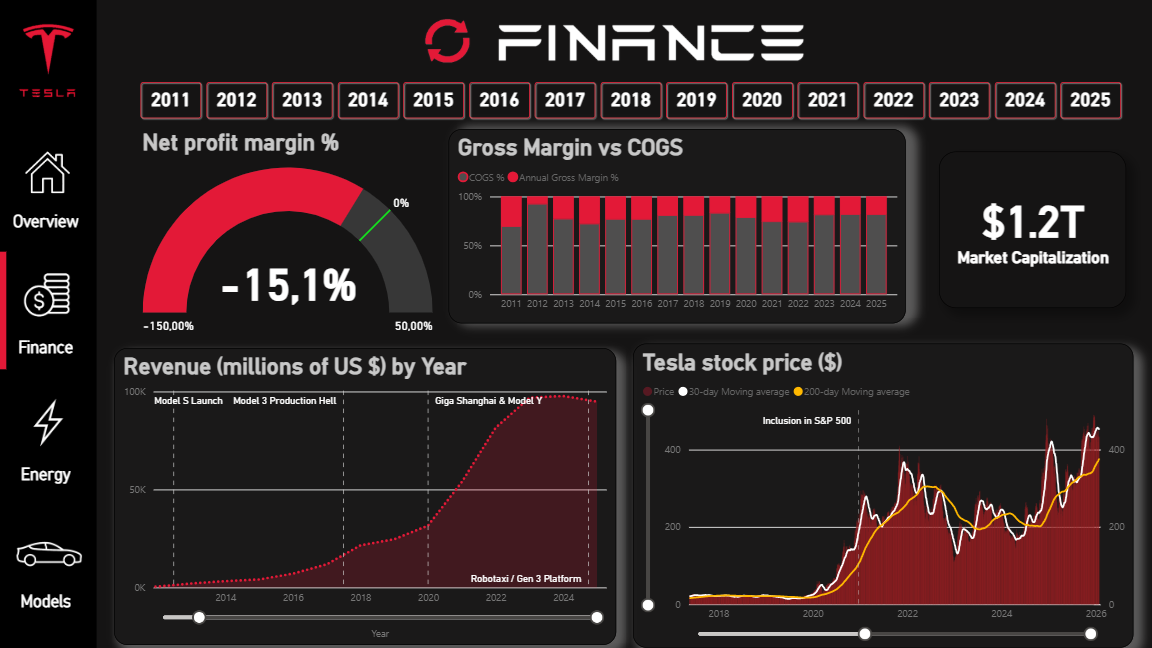

The page's visual inventory and layout, read from the dashboard file:
{"tool":"powerbi","page":{"name":"Finance","canvas":[1280,720],"ordinal":1},"visuals":[{"type":"shape","box":[0,0,107.5,720],"z":0,"group":"g3"},{"type":"image","box":[458,14.9,78.2,60.3],"z":0,"group":"g2"},{"type":"image","box":[4,146,98,89],"z":0,"group":"g1"},{"type":"lineClusteredColumnComboChart","title":"Tesla stock price ($)","fields":{"Category":["stock tesla.Date"],"Y":["Avg(stock tesla.Close)"],"Y2":["select","select1"]},"box":[704,382,556,338],"z":0},{"type":"actionButton","box":[458,14,80,61.2],"z":1000,"group":"g2"},{"type":"hundredPercentStackedColumnChart","title":"Gross Margin vs COGS","fields":{"Category":["financials 1.rok.Variation.Date Hierarchy.Year"],"Y":["Sum(financials 1.COGS)","Sum(financials 1.Annual Gross Margin %)"]},"box":[498,144,508,216],"z":1000},{"type":"group","id":"g1","title":"Group 2","box":[0,146,107,533.3],"z":1000,"group":"g3"},{"type":"image","box":[1.7,271.3,101.7,111.7],"z":1000,"group":"g1"},{"type":"image","box":[0,0,106.7,136.7],"z":2000,"group":"g3"},{"type":"areaChart","fields":{"Category":["financials 1.rok.Variation.Date Hierarchy.Year"],"Y":["Sum(financials 1.revenue (millions of US $))"]},"box":[126,386,558,330],"z":2000},{"type":"image","box":[0,398,107,142],"z":2000,"group":"g1"},{"type":"actionButton","box":[2.2,137.8,100,125.6],"z":3000,"group":"g3"},{"type":"gauge","title":"Net profit margin %","fields":{"MinValue":["Avg(financials 1.minvalue)"],"MaxValue":["Avg(financials 1.maxvalue)"],"TargetValue":["Avg(financials 1.target)"],"Y":["Avg(financials 1.net profit margin)"]},"box":[154,144,332,242],"z":3000},{"type":"image","box":[1.3,549.3,104.7,130],"z":3000,"group":"g1"},{"type":"advancedSlicerVisual","title":"ZVOLTE ROK","fields":{"Values":["financials 1.rok"]},"box":[154,88,1106,46],"z":4000},{"type":"actionButton","box":[0,273.3,106.7,136.7],"z":4000,"group":"g3"},{"type":"image","box":[531,18,384,58],"z":5000},{"type":"actionButton","box":[0,410,107.1,131.4],"z":5000,"group":"g3"},{"type":"card","fields":{"Values":["Min(financials 1.Market Cap)"]},"box":[1043,169,208,174],"z":6000},{"type":"actionButton","box":[0,553.3,106.7,140],"z":6000,"group":"g3"},{"type":"group","id":"g2","title":"Group 3","box":[458,14,80,62],"z":7000},{"type":"pageNavigator","box":[0,137.5,102.5,555],"z":7000,"group":"g3"},{"type":"group","id":"g3","title":"Group 1","box":[0,0,107.5,720],"z":8000}]}

Visuals, with their boxes on the page's 1280x720 design canvas (x1, y1, x2, y2). These are canvas units, not pixel positions in the 1152x648 screenshot, which may show the page scaled, cropped or inside an application window:
shape: bbox=[0, 0, 108, 720]
image: bbox=[458, 15, 536, 75]
image: bbox=[4, 146, 102, 235]
"Tesla stock price ($)" lineClusteredColumnComboChart: bbox=[704, 382, 1260, 720]
actionButton: bbox=[458, 14, 538, 75]
"Gross Margin vs COGS" hundredPercentStackedColumnChart: bbox=[498, 144, 1006, 360]
"Group 2" group: bbox=[0, 146, 107, 679]
image: bbox=[2, 271, 103, 383]
image: bbox=[0, 0, 107, 137]
areaChart - financials 1.rok.Variation.Date Hierarchy.Year x Sum(financials 1.revenue (millions of US $)): bbox=[126, 386, 684, 716]
image: bbox=[0, 398, 107, 540]
actionButton: bbox=[2, 138, 102, 263]
"Net profit margin %" gauge: bbox=[154, 144, 486, 386]
image: bbox=[1, 549, 106, 679]
"ZVOLTE ROK" advancedSlicerVisual: bbox=[154, 88, 1260, 134]
actionButton: bbox=[0, 273, 107, 410]
image: bbox=[531, 18, 915, 76]
actionButton: bbox=[0, 410, 107, 541]
card - Min(financials 1.Market Cap): bbox=[1043, 169, 1251, 343]
actionButton: bbox=[0, 553, 107, 693]
"Group 3" group: bbox=[458, 14, 538, 76]
pageNavigator: bbox=[0, 138, 102, 692]
"Group 1" group: bbox=[0, 0, 108, 720]
